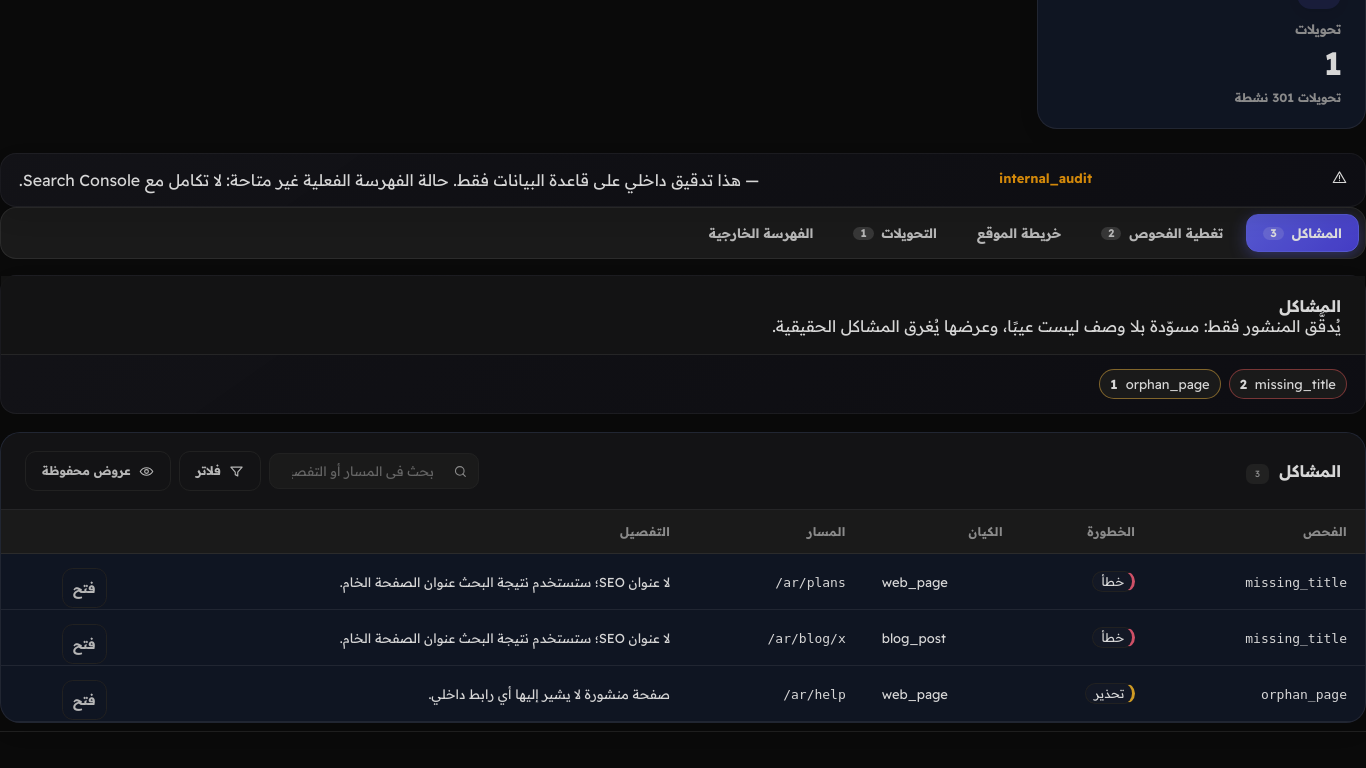
Test: SeoOperationsPage › issues are grouped by check and the group filters the table
(page scrolled)
Click the button "missing_title 2": click(1288, 384) [1229, 369, 1347, 399]
(page scrolled)
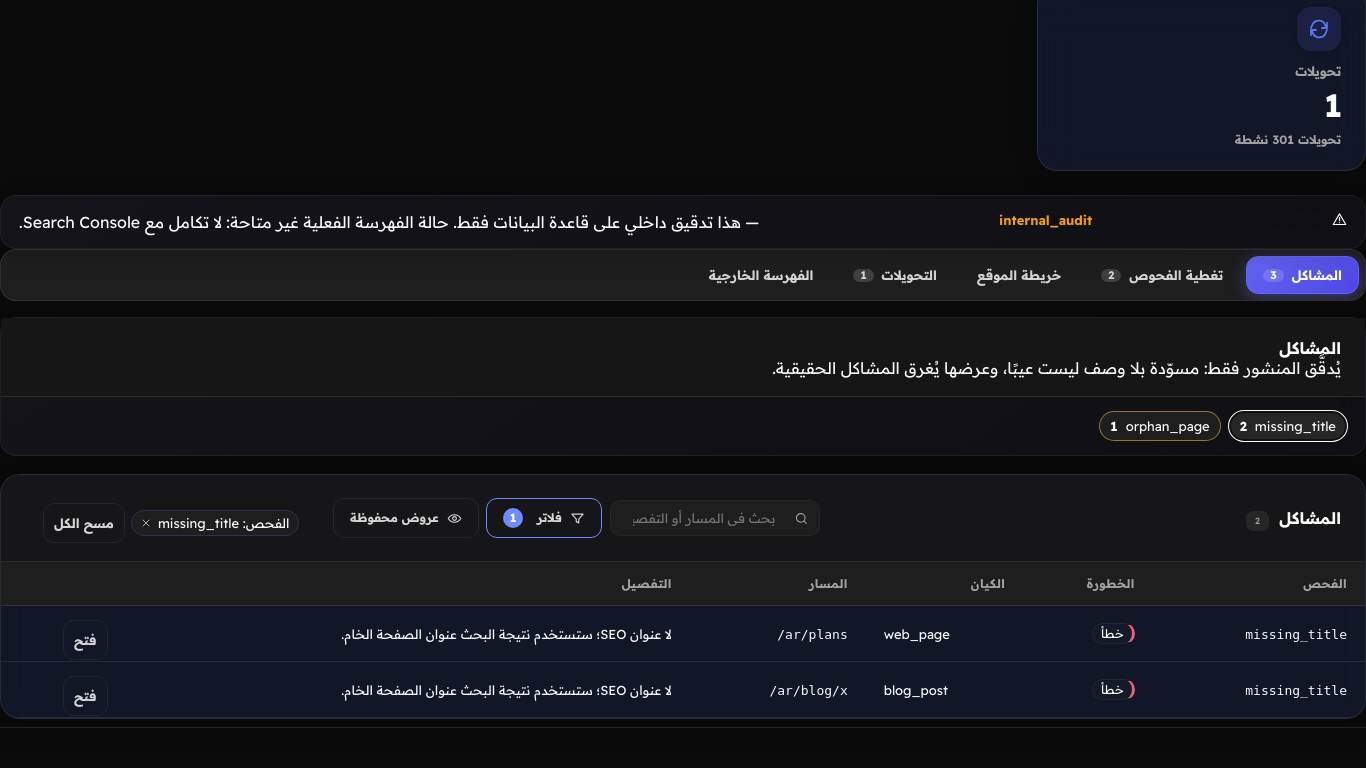
Expected: the number of rows is 3, [1, 562, 1365, 606]; [1, 606, 1365, 662]; [1, 662, 1365, 718]
